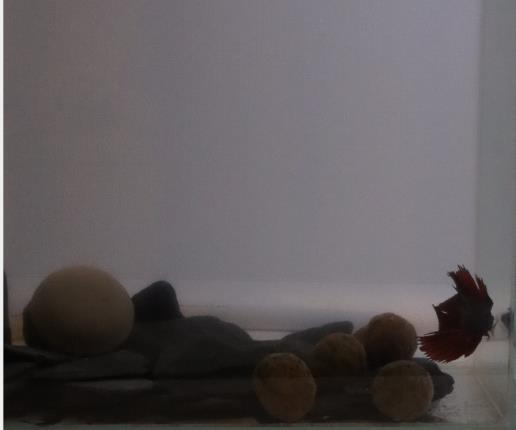fish: (414, 263, 503, 365)
